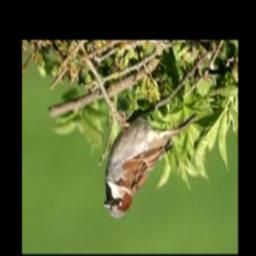Sparrow: (103, 111, 199, 218)
